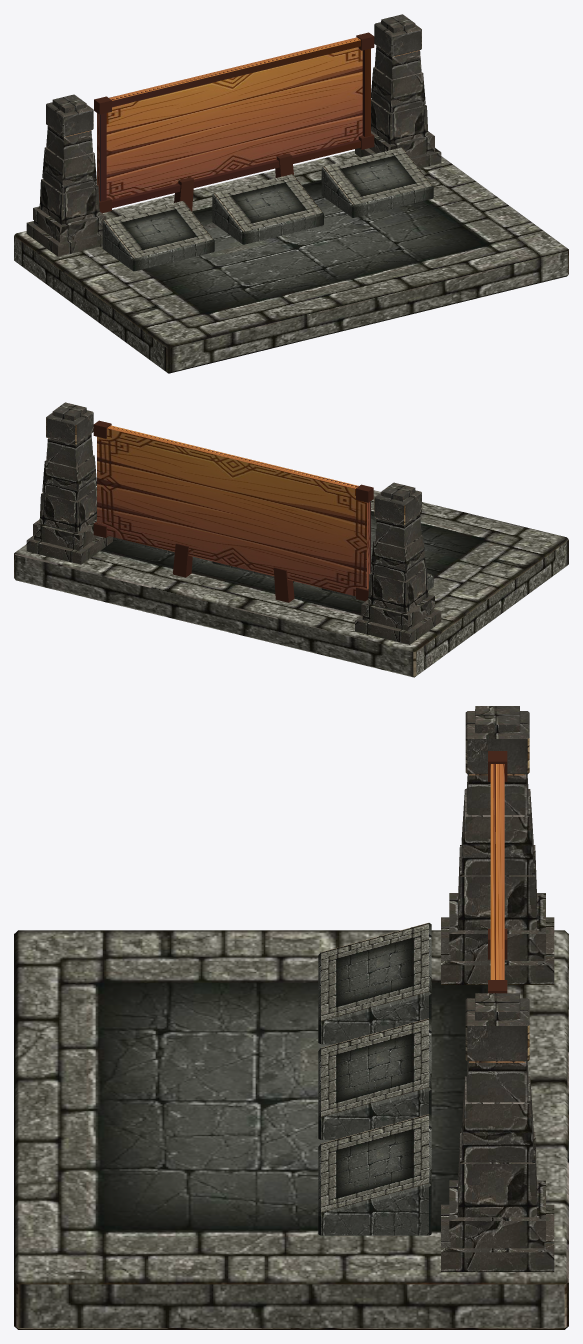
File: PlatformMoveable.glb
3 renders of one model, top to bottom at view 1: azimuth 30°, elevation 25°; view 2: azimuth 150°, elevation 25°; view 3: azimuth 270°, elevation 25°, orthographic. The views are drawn at different scales.
Parts seen in each view (by area): view 1: Cube, Cube.002, Cube.001, Cube.003, Cube.006, Cube.005, Cube.004; view 2: Cube, Cube.002, Cube.001, Cube.003; view 3: Cube, Cube.003, Cube.001, Cube.006, Cube.005, Cube.004, Cube.002.
Part boxes in pixels (box(x1,y1,x2,y2)): Cube: box(14, 151, 568, 373); Cube.002: box(94, 32, 374, 213); Cube.001: box(26, 94, 106, 256); Cube.003: box(355, 14, 441, 168); Cube.006: box(321, 147, 433, 217); Cube.005: box(102, 201, 214, 271); Cube.004: box(212, 174, 323, 244); Cube: box(14, 490, 568, 677); Cube.002: box(93, 420, 373, 602); Cube.001: box(355, 482, 441, 644); Cube.003: box(26, 402, 112, 564); Cube: box(14, 930, 568, 1329); Cube.003: box(441, 993, 554, 1271); Cube.001: box(441, 706, 554, 984); Cube.006: box(318, 1114, 431, 1235); Cube.005: box(318, 922, 431, 1044); Cube.004: box(318, 1018, 431, 1139); Cube.002: box(488, 751, 507, 993).
Size of the model in its own units: 14.7 by 5.78 by 9.8.
2 materials, 2 textured.
